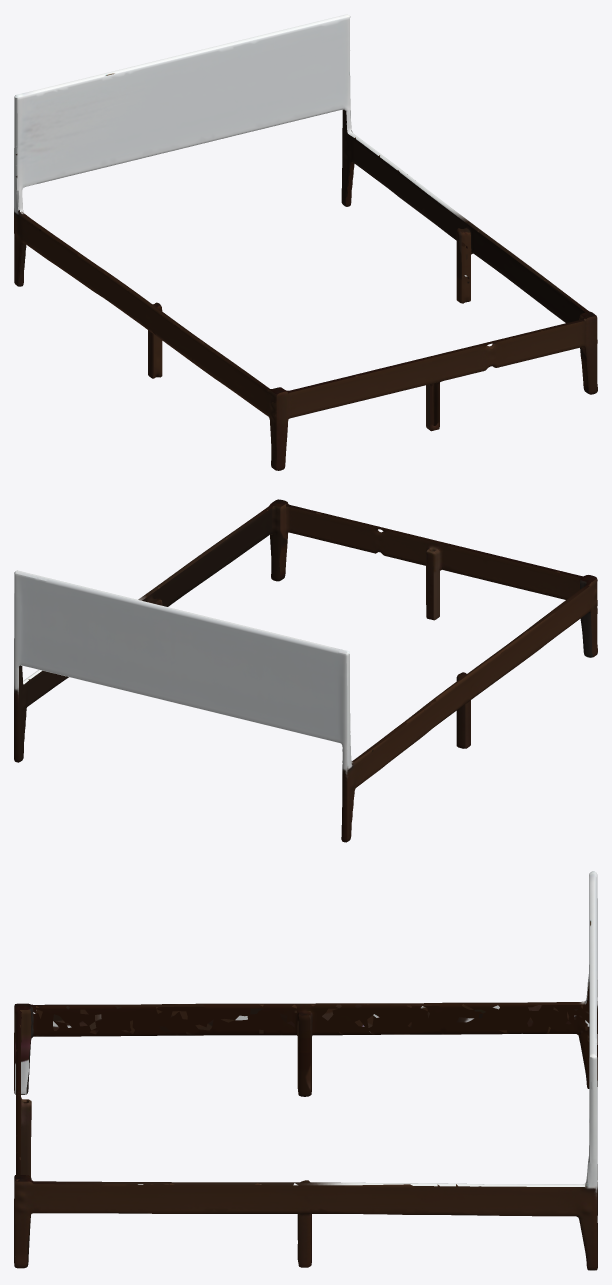
File: bed__bed#1.glb
3 renders of one model, top to bottom at view 1: azimuth 30°, elevation 25°; view 2: azimuth 150°, elevation 25°; view 3: azimuth 270°, elevation 25°, orthographic. The views are drawn at different scales.
Parts seen in each view (by area): view 1: tmpfl2yjxf0.ply; view 2: tmpfl2yjxf0.ply; view 3: tmpfl2yjxf0.ply.
Part boxes in pixels (x1,y1,x2,y2): tmpfl2yjxf0.ply: [14, 14, 597, 470]; tmpfl2yjxf0.ply: [14, 499, 597, 842]; tmpfl2yjxf0.ply: [14, 871, 597, 1270].
Size of the model in its own units: 1.5 by 0.8159 by 1.99.
Materials: 1 (1 with a texture image).
